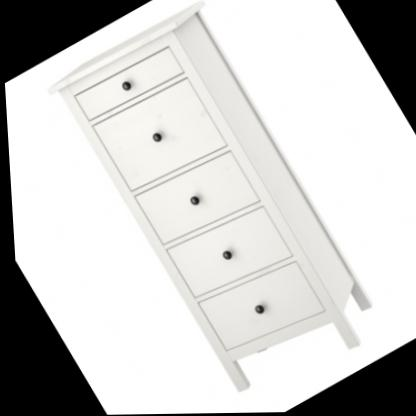Cabinet: (34, 0, 397, 416)
